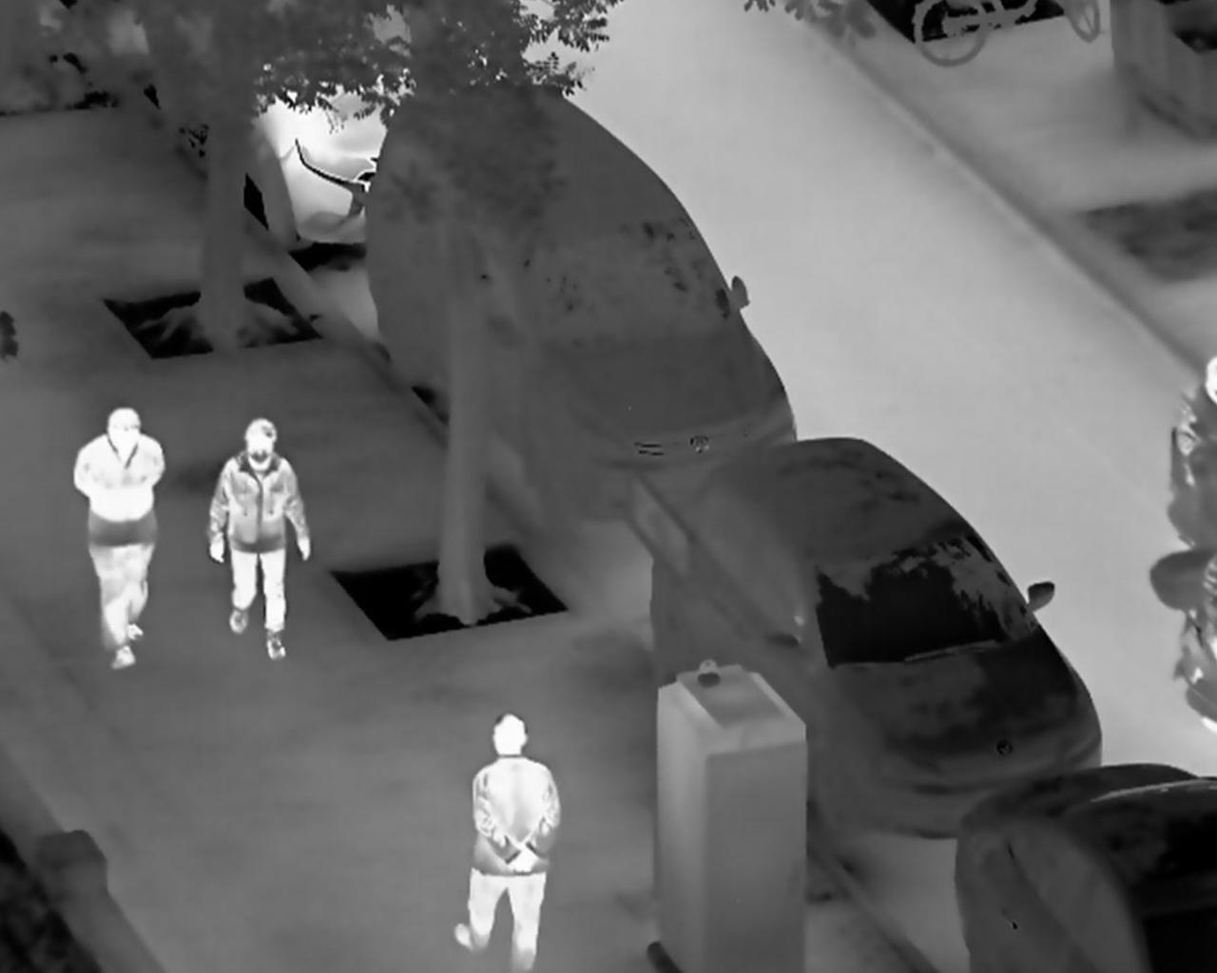person: (454, 711, 561, 973), (205, 417, 311, 662), (72, 405, 165, 672)
